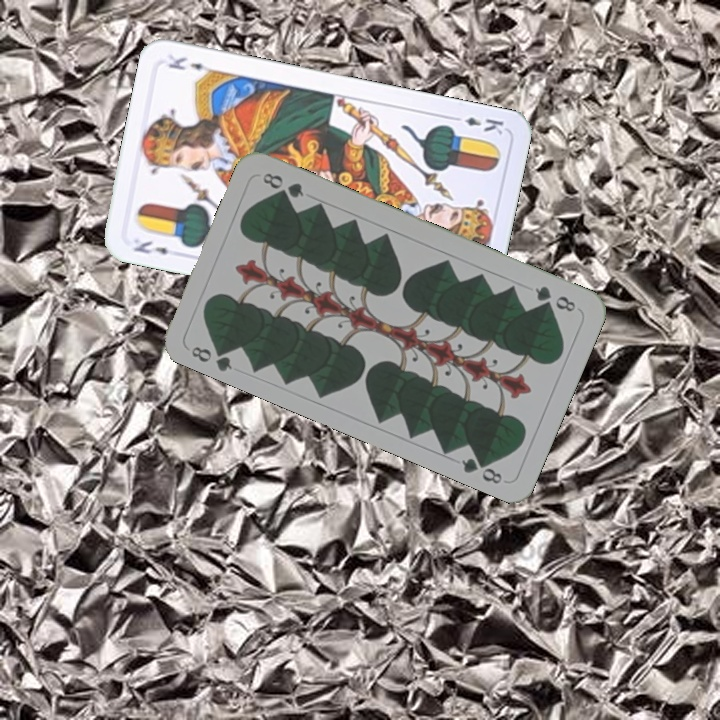EK: (448, 112, 506, 137), (129, 236, 171, 257)
G8: (187, 340, 235, 374), (530, 282, 579, 315)
